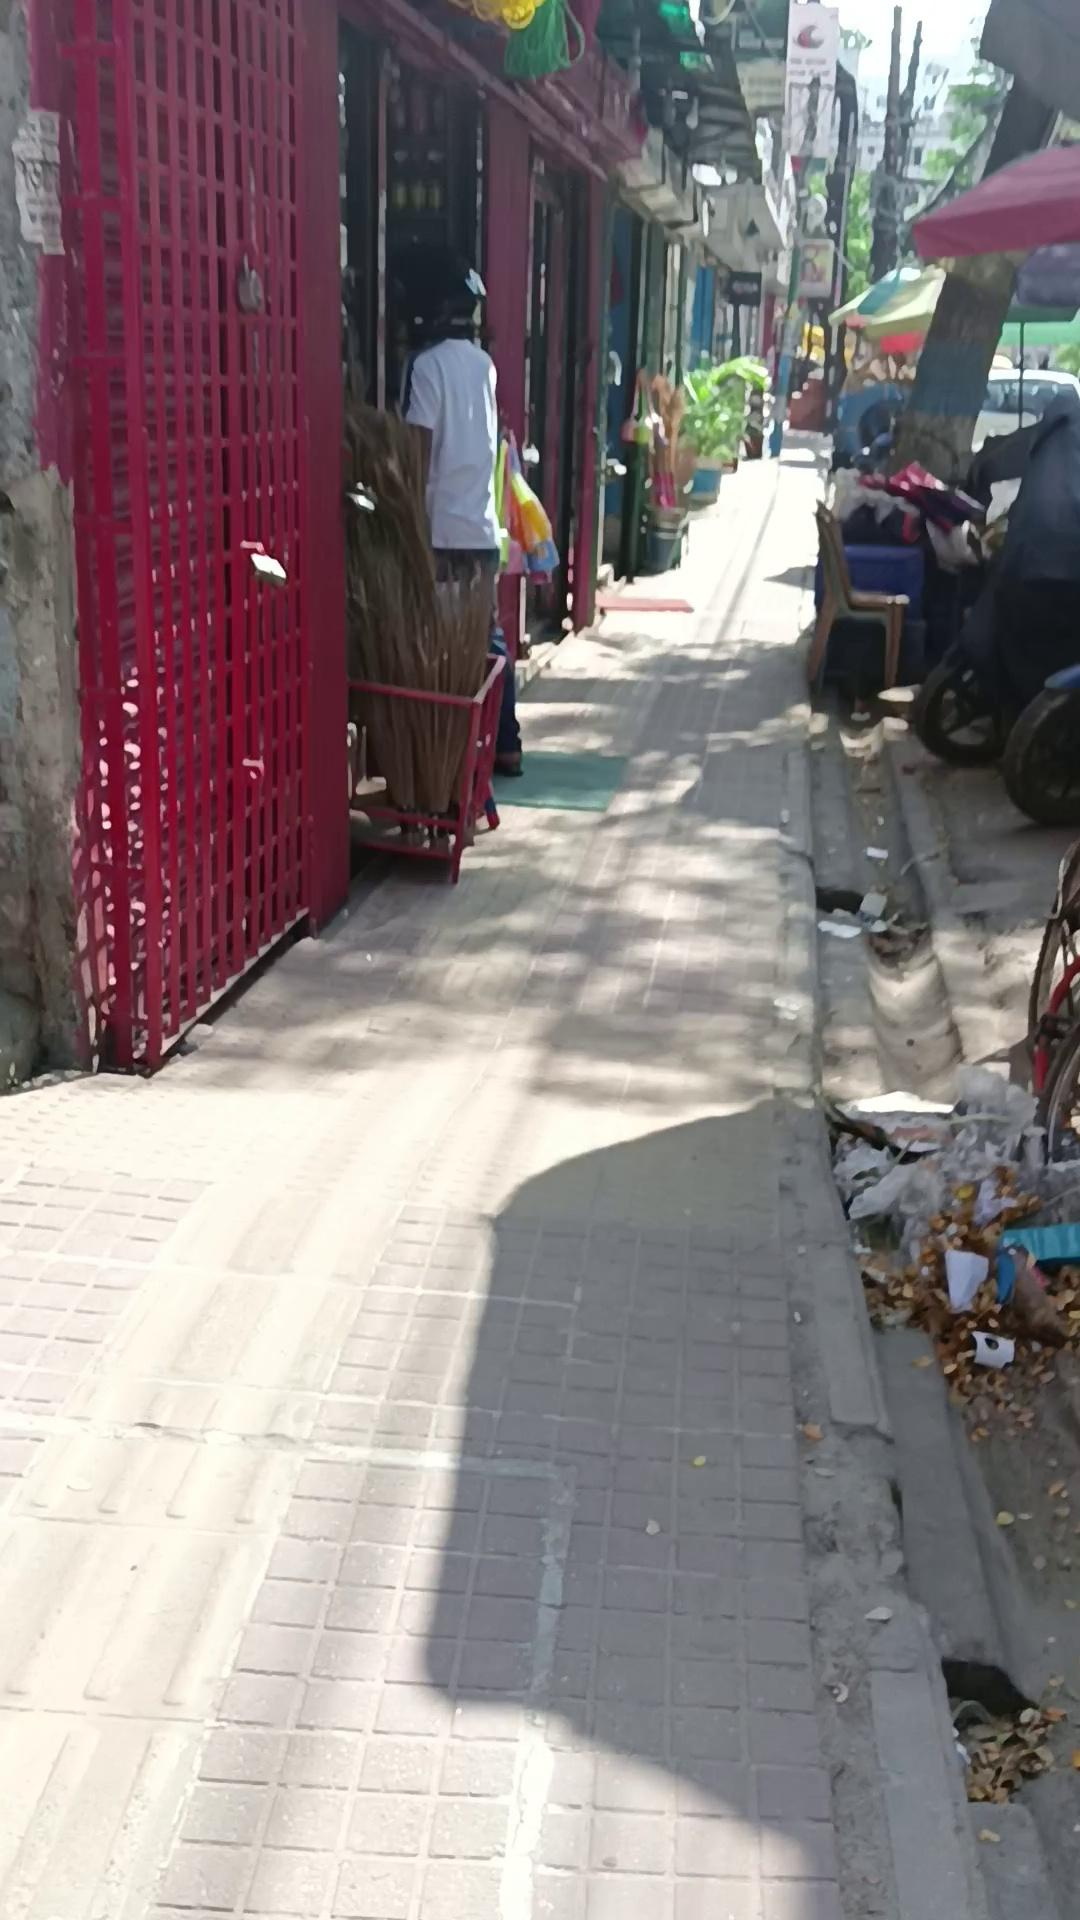Animal: (804, 497, 910, 713)
Bollard: (829, 367, 1079, 479)
Broken-road: (771, 717, 992, 1915)
Cat: (837, 541, 926, 683)
Crosswalk: (344, 649, 508, 885)
Curb: (396, 261, 524, 779)
Fallen-tree: (671, 353, 771, 505)
Fence: (1013, 836, 1077, 1166)
Garbage: (1, 431, 1080, 1916)
Obstacle: (0, 3, 90, 1093)
